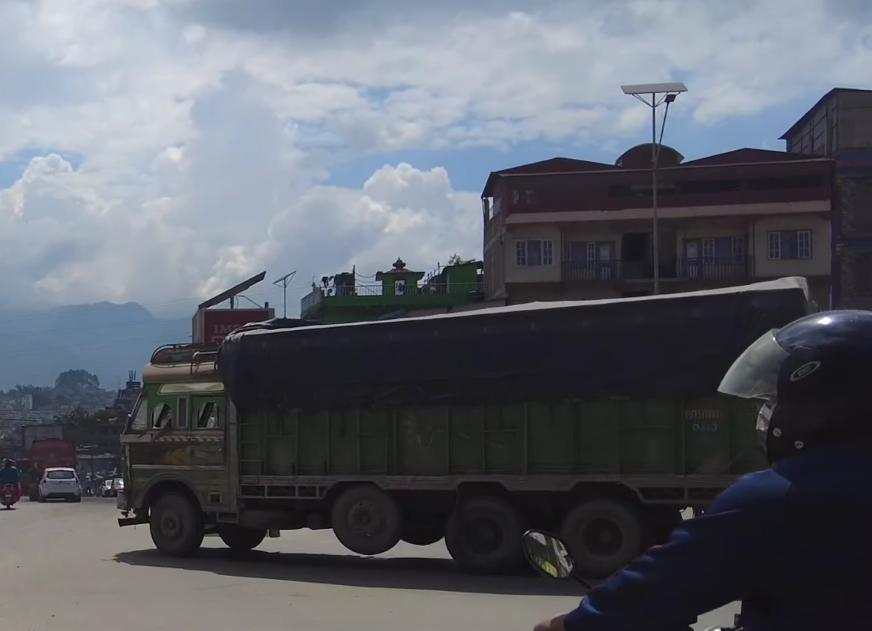bike: (0, 480, 21, 509)
car: (36, 466, 82, 502)
truck: (115, 273, 821, 582)
